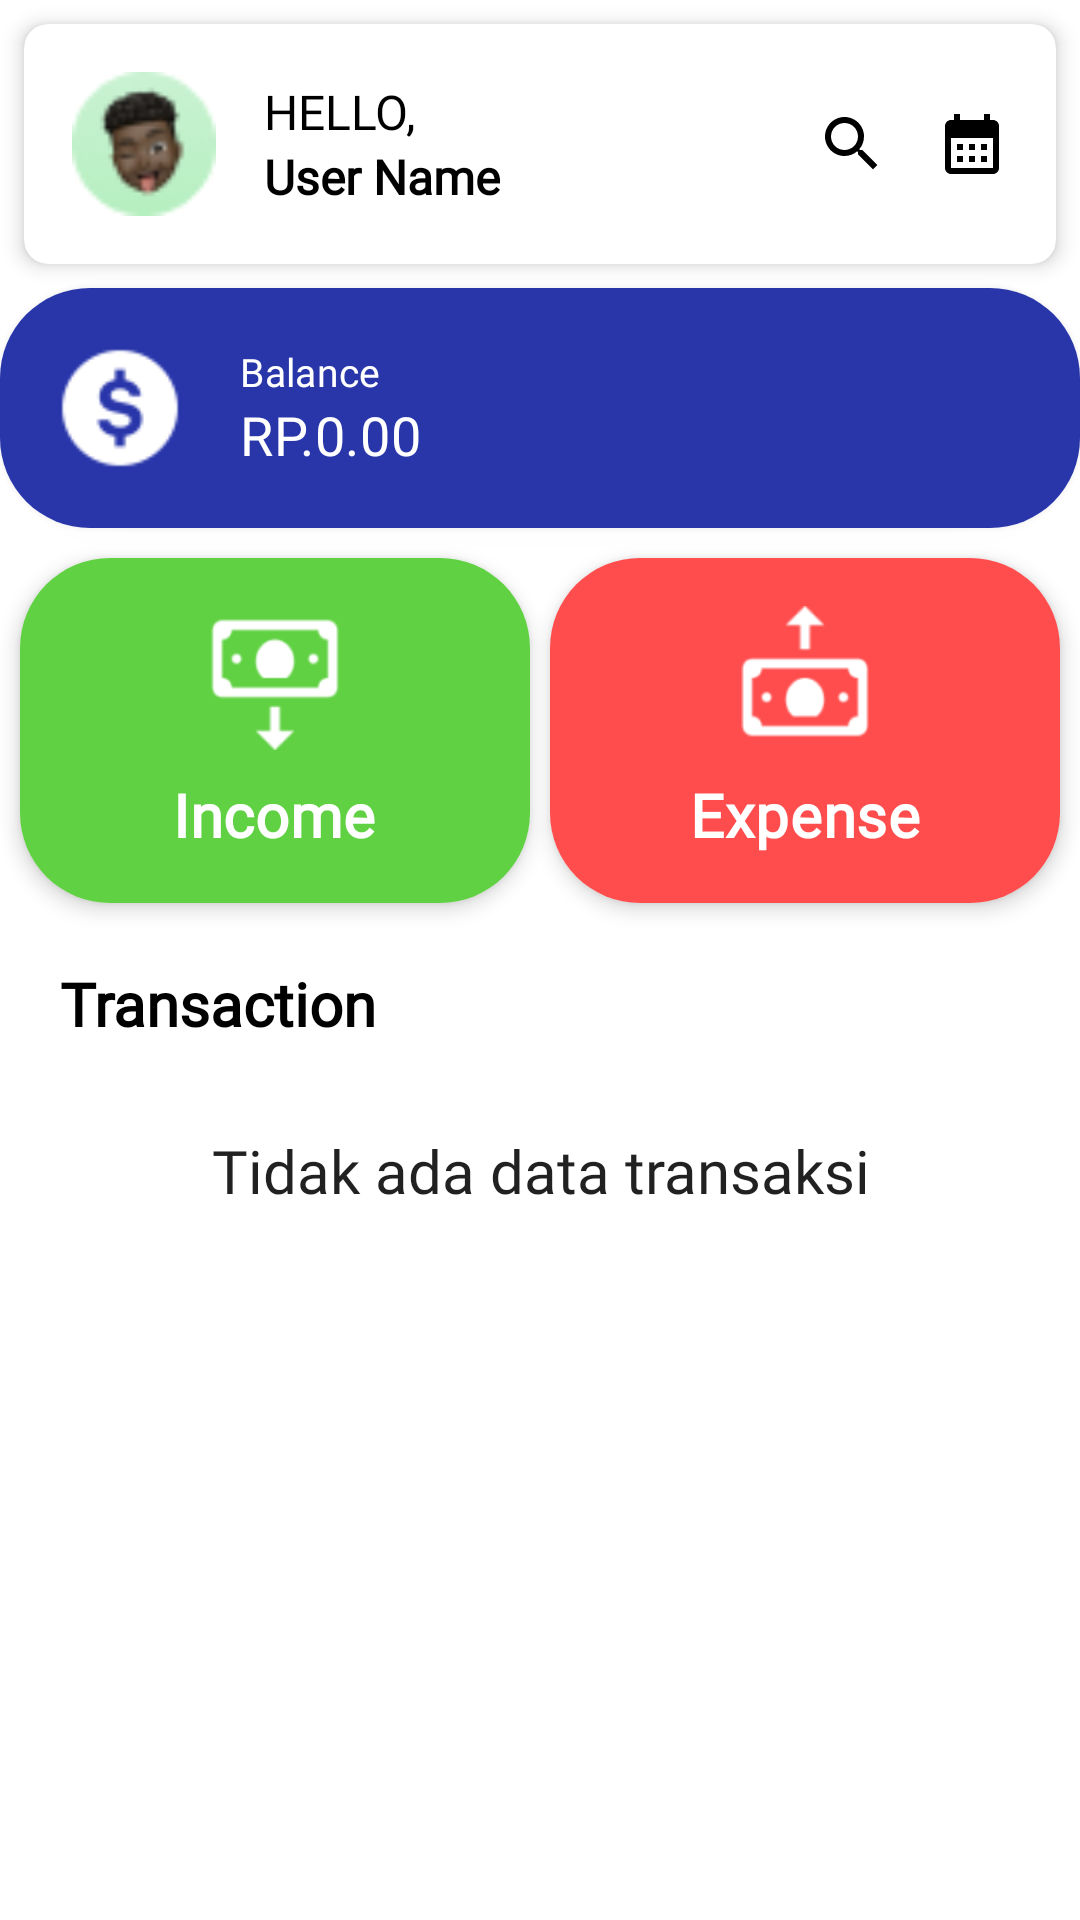

Where to tap for icons on this 1080px×1920px app screen, as point (x, y):
calendar month: point (972, 144)
dollar: point (120, 408)
search: point (851, 143)
